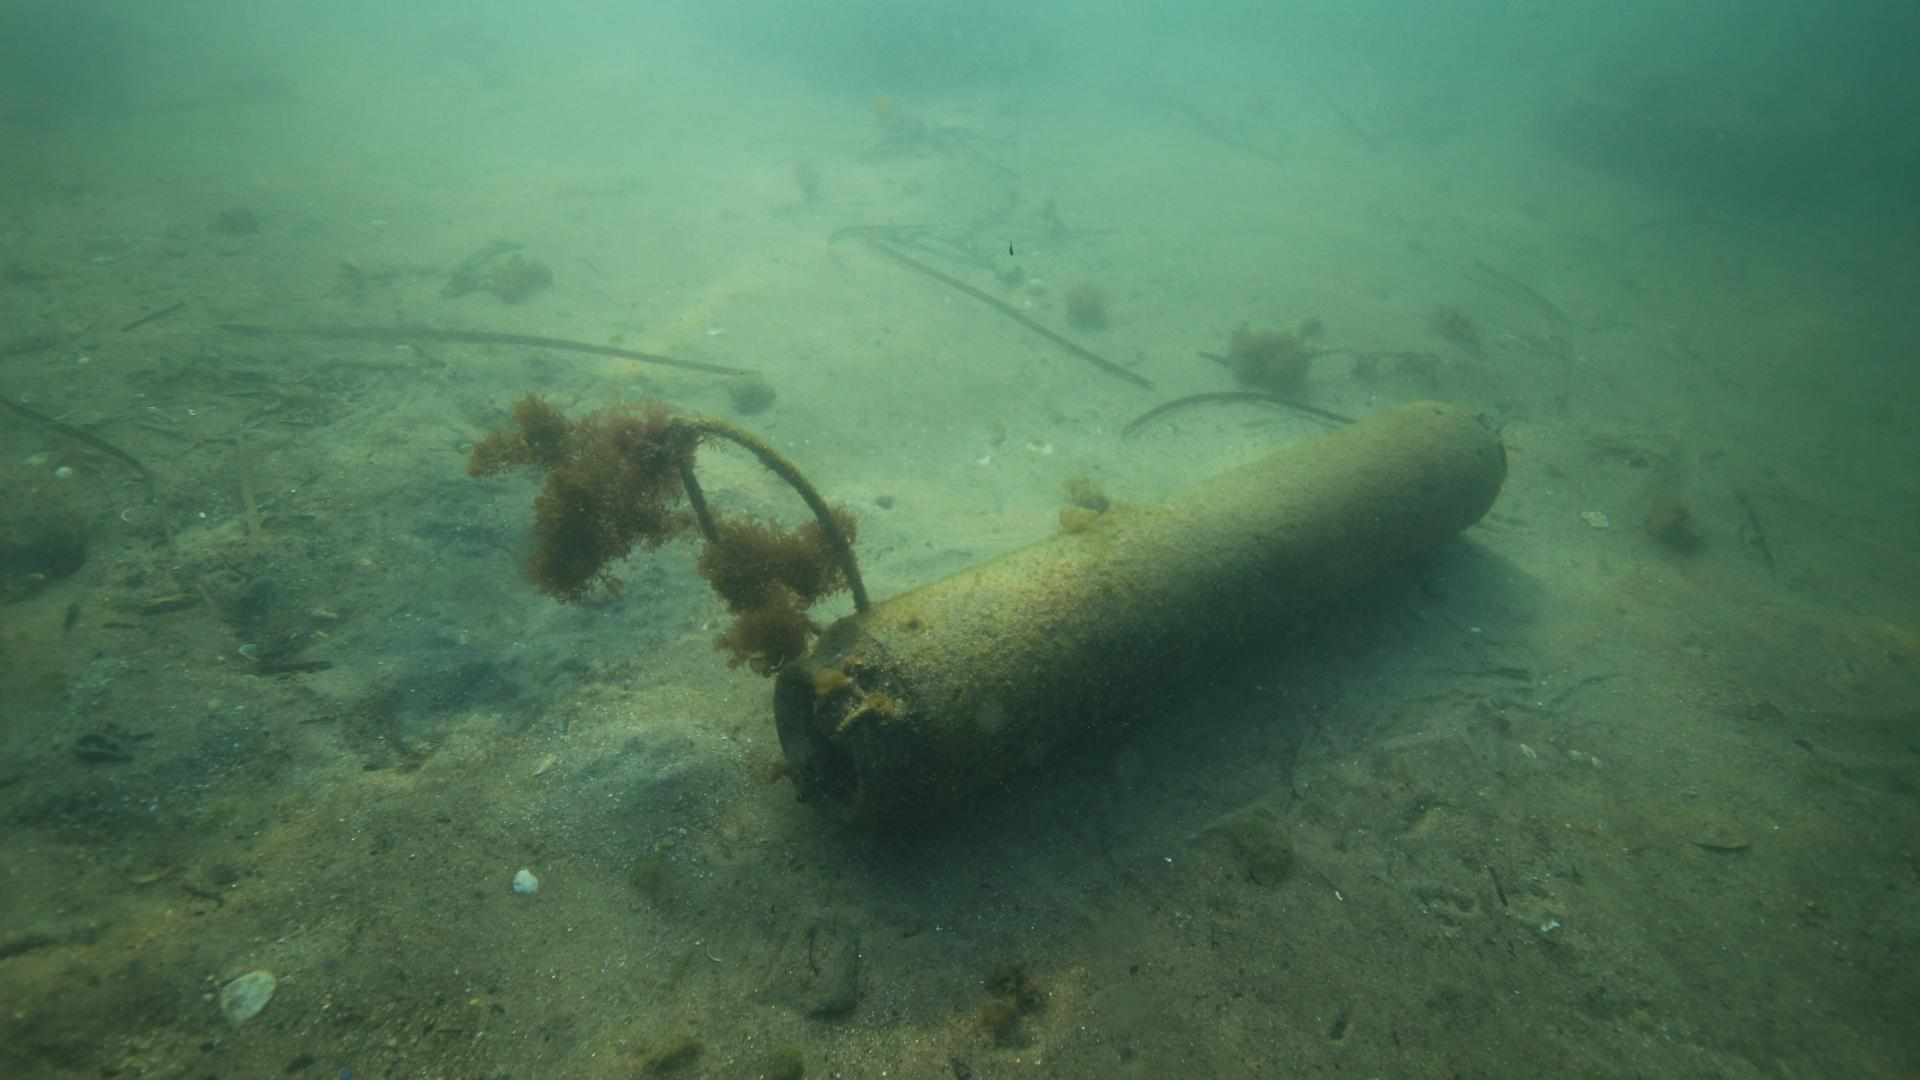bundle of ropes: (669, 415, 878, 615)
eel fish trap: (769, 396, 1510, 832)
